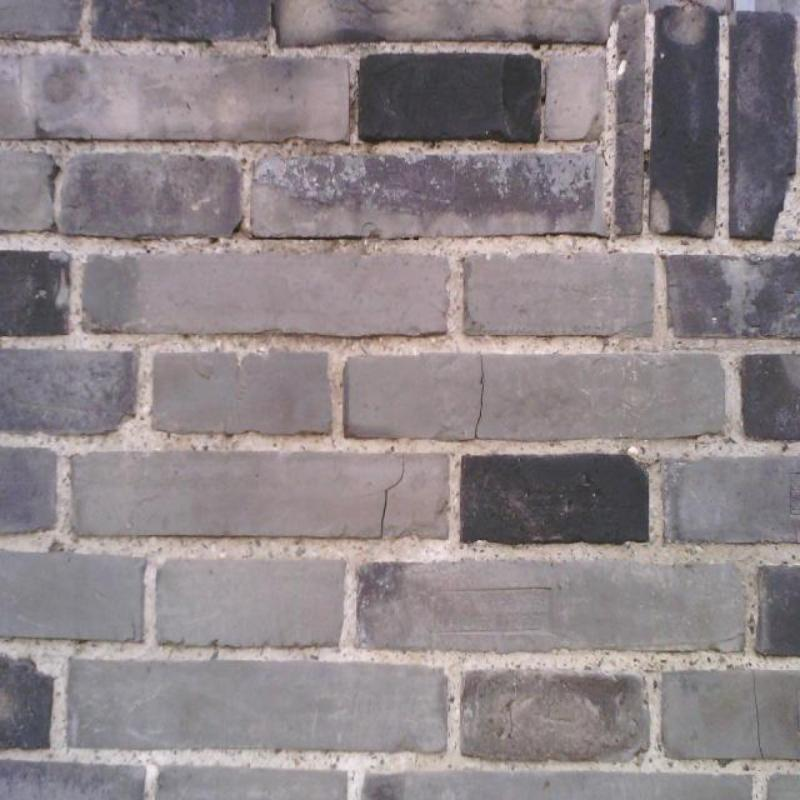pothole: (381, 457, 404, 538), (753, 672, 765, 759), (475, 355, 484, 438)
